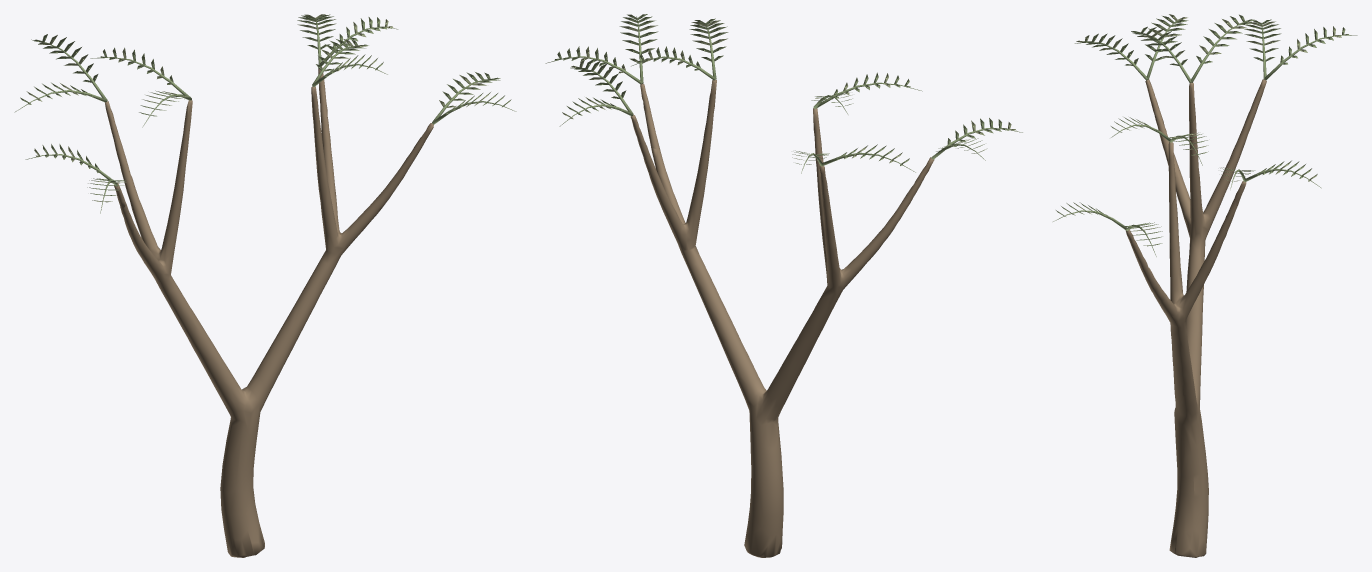
Rendered from wielandiella.glb.
The picture shows the model from 3 angles, left to right: view 1: azimuth 30°, elevation 25°; view 2: azimuth 150°, elevation 25°; view 3: azimuth 270°, elevation 25°; orthographic projection. The views are drawn at different scales.
Visible parts, largest first — view 1: open-divaricate-bennettitalean-shrub-scaffold, small-terminal-leaf-clusters-with-visible-branch-support, slender-pinnate-leaf-axes; view 2: open-divaricate-bennettitalean-shrub-scaffold, small-terminal-leaf-clusters-with-visible-branch-support, slender-pinnate-leaf-axes; view 3: open-divaricate-bennettitalean-shrub-scaffold, small-terminal-leaf-clusters-with-visible-branch-support, slender-pinnate-leaf-axes.
Part boxes in pixels (x1=…): open-divaricate-bennettitalean-shrub-scaffold: x1=105, y1=66, x2=433, y2=557; small-terminal-leaf-clusters-with-visible-branch-support: x1=20, y1=14, x2=511, y2=202; slender-pinnate-leaf-axes: x1=14, y1=20, x2=516, y2=213; open-divaricate-bennettitalean-shrub-scaffold: x1=630, y1=80, x2=934, y2=557; small-terminal-leaf-clusters-with-visible-branch-support: x1=554, y1=14, x2=1016, y2=165; slender-pinnate-leaf-axes: x1=545, y1=16, x2=1022, y2=173; open-divaricate-bennettitalean-shrub-scaffold: x1=1125, y1=79, x2=1266, y2=557; small-terminal-leaf-clusters-with-visible-branch-support: x1=1056, y1=14, x2=1349, y2=246; slender-pinnate-leaf-axes: x1=1053, y1=19, x2=1357, y2=256.
Bounding box in the file's own units: 0.7611 × 0.7955 × 0.4537.
